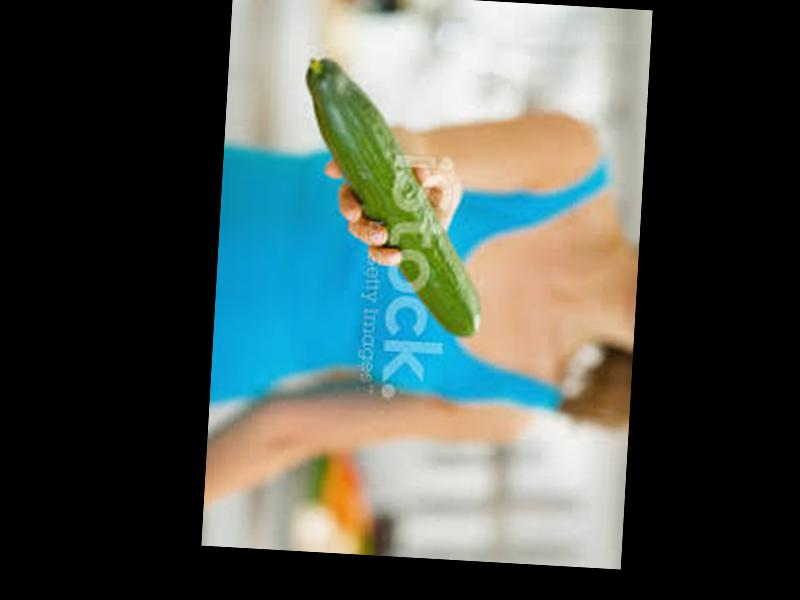Cucumber: (290, 58, 494, 339)
